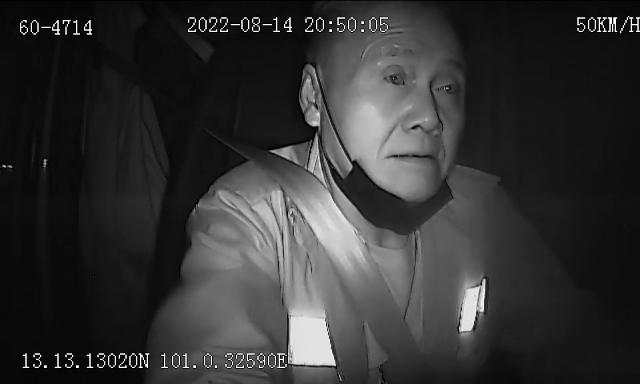SafeDriving: (378, 57, 414, 94), (427, 69, 464, 104)
Seatbelt: (228, 142, 422, 384)
